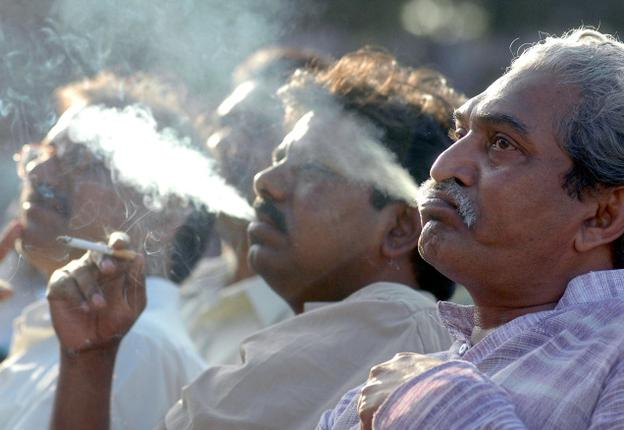cigarette: (55, 226, 145, 266)
